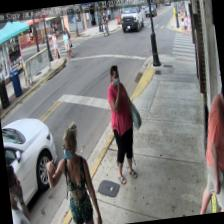person: (40, 117, 102, 224), (103, 63, 139, 184), (5, 162, 33, 224)
